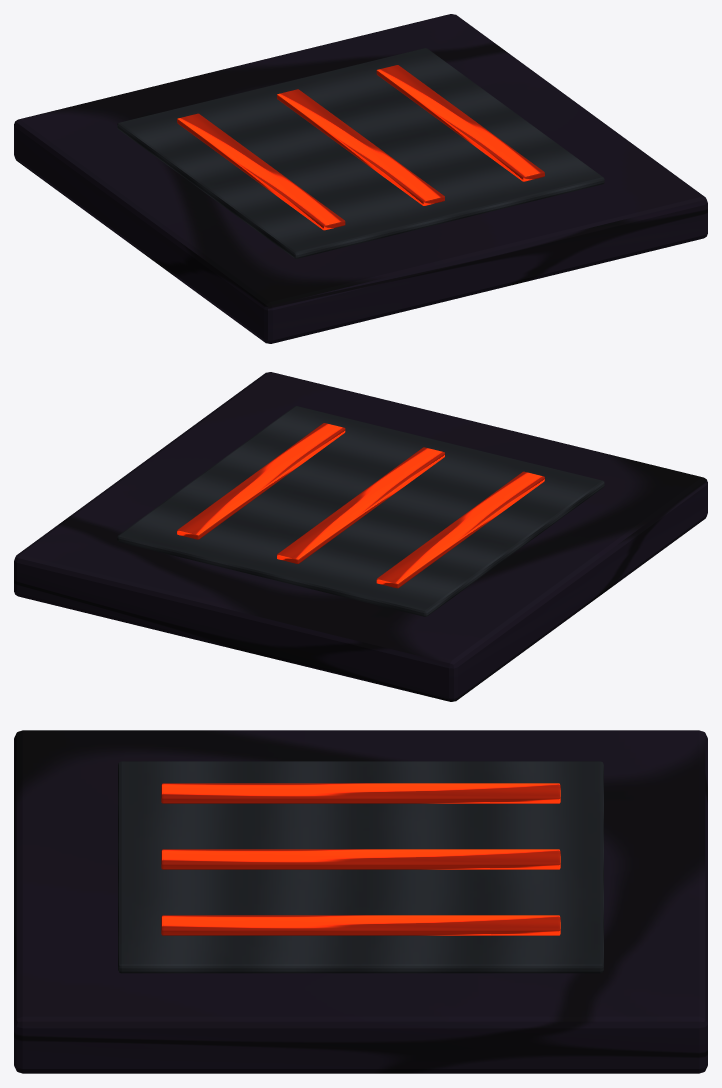
Rendered from SM_FC_HotPlatform_400.fbx.
3 renders of one model, top to bottom at view 1: azimuth 30°, elevation 25°; view 2: azimuth 150°, elevation 25°; view 3: azimuth 270°, elevation 25°, orthographic. The views are drawn at different scales.
Visible parts, largest first — view 1: SM_FC_HotPlatform_400; view 2: SM_FC_HotPlatform_400; view 3: SM_FC_HotPlatform_400.
Part boxes in pixels (x1,y1,x2,y2): SM_FC_HotPlatform_400: (14,14,707,343); SM_FC_HotPlatform_400: (14,372,707,701); SM_FC_HotPlatform_400: (14,730,707,1073).
Size of what is drawn, in the model's own units: 4 by 0.4725 by 4.
